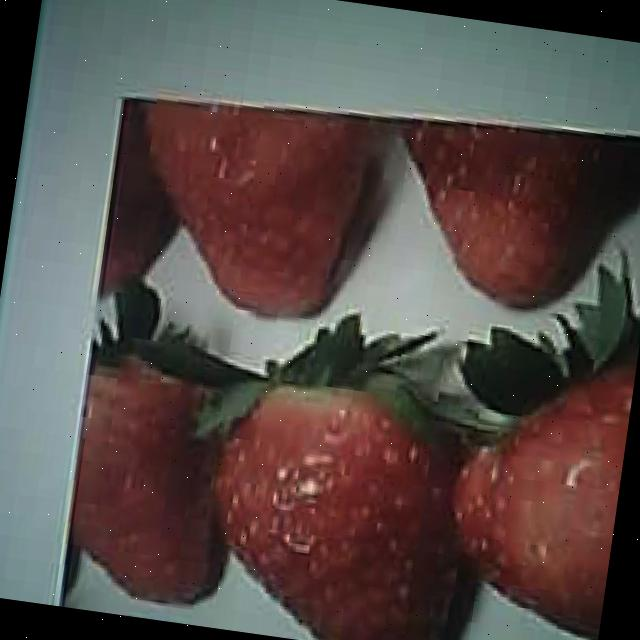strawberry: (199, 371, 482, 640), (120, 85, 372, 324), (434, 344, 636, 634), (62, 342, 245, 606)
